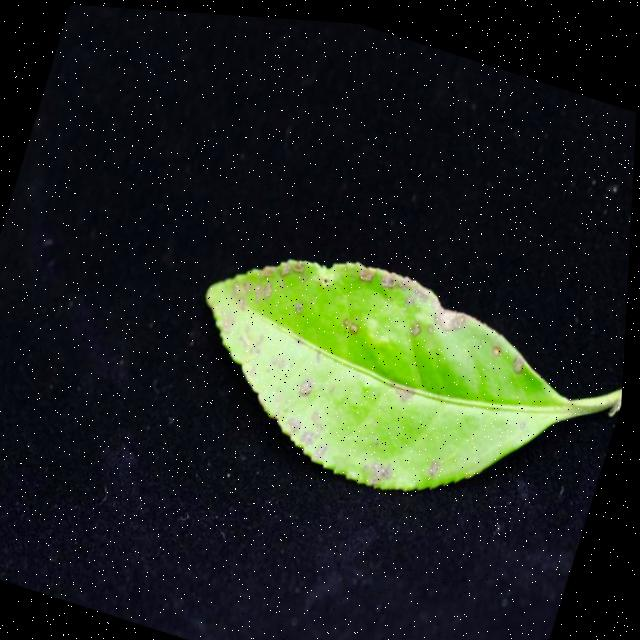Tea red rust: (171, 221, 597, 537)
